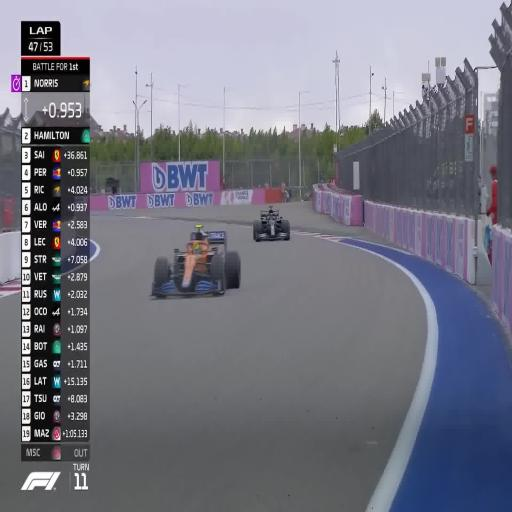f1_car: (151, 225, 240, 297), (253, 206, 290, 240)
